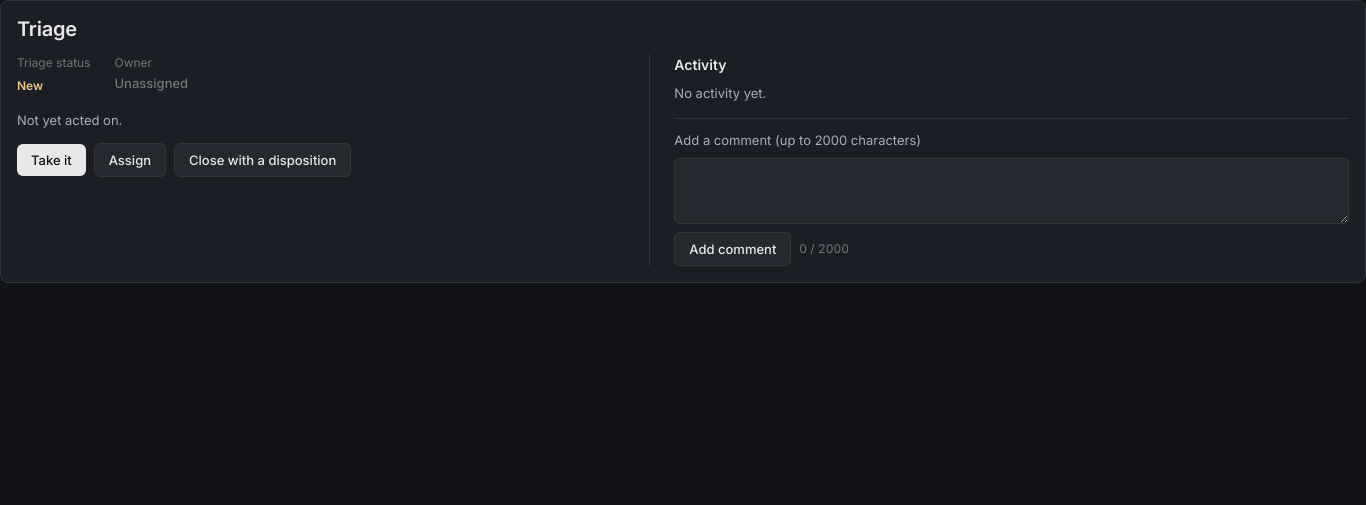
Test: close with a disposition › shows the server's 422 in the dialog
Click the button "Close with a disposition" at [263, 160], box 174,143 -> 351,177
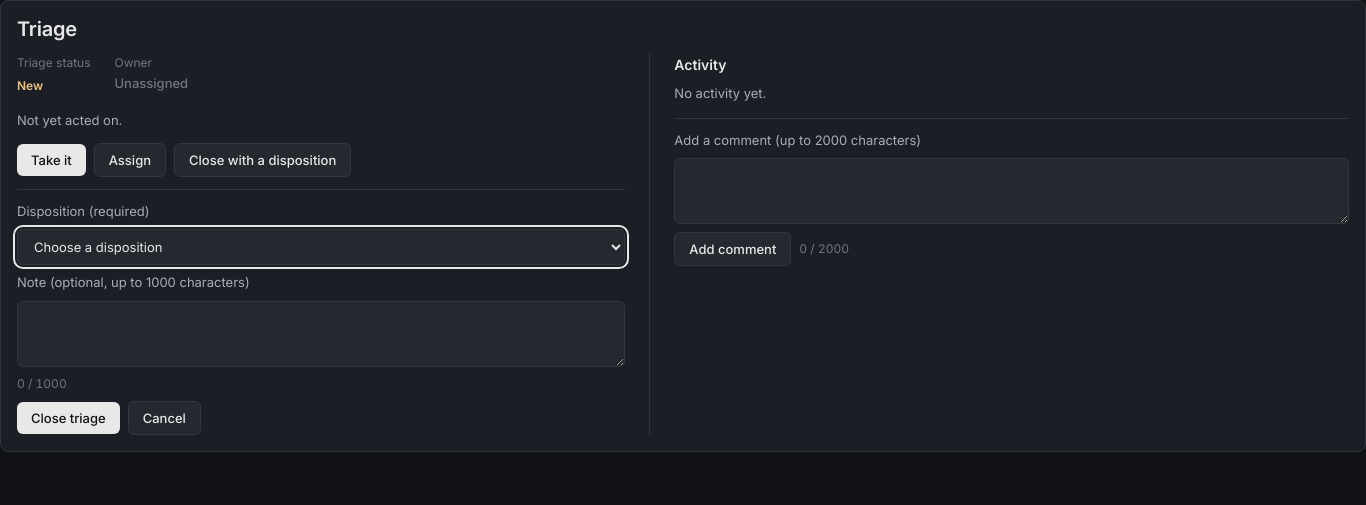
Select "Noise" in the dropdown labelled "Disposition (required)" at [321, 247], box 17,229 -> 625,265
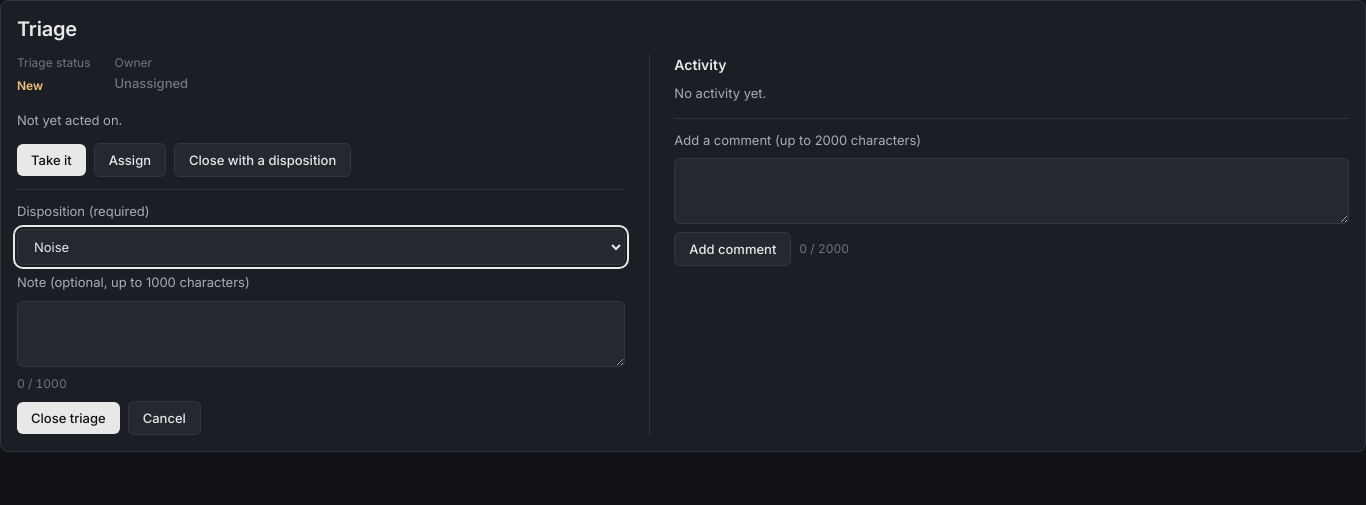
Click the button "Close triage" at [68, 418], box 17,402 -> 120,434
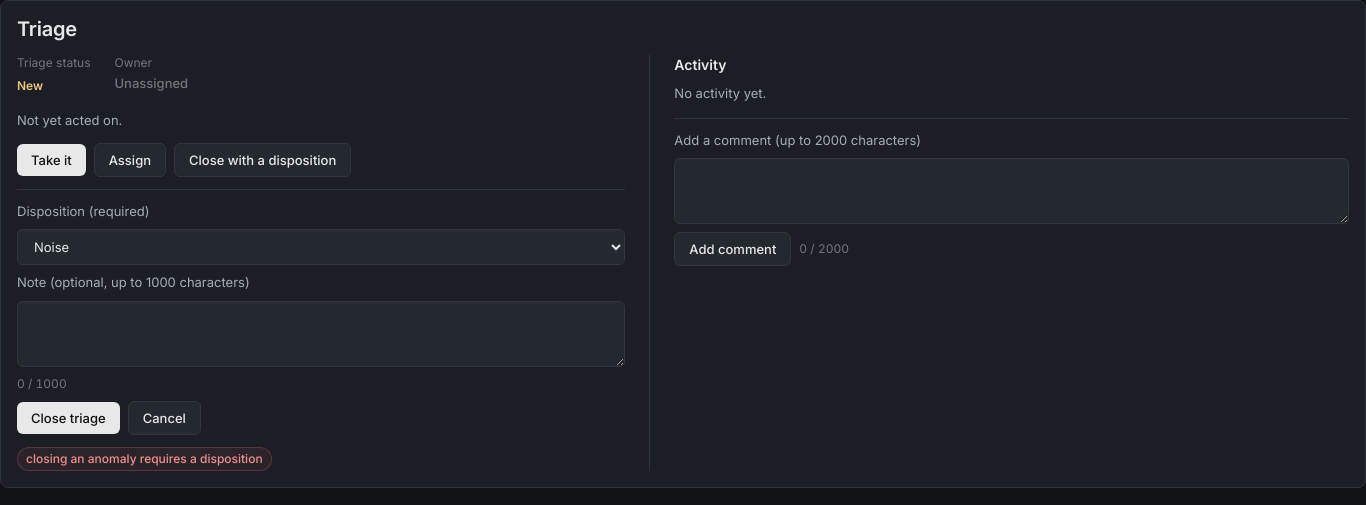
Result: the button "Close triage" is shown at 17,402 -> 120,434
Result: the message shows "requires a disposition" at 26,451 -> 263,466
